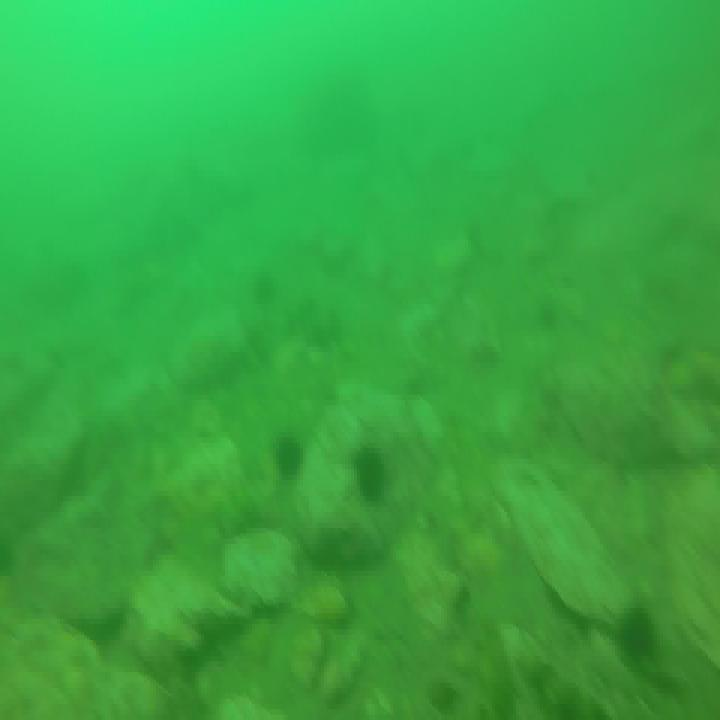echinus: (357, 442, 390, 506), (620, 597, 654, 655), (277, 435, 305, 477)
